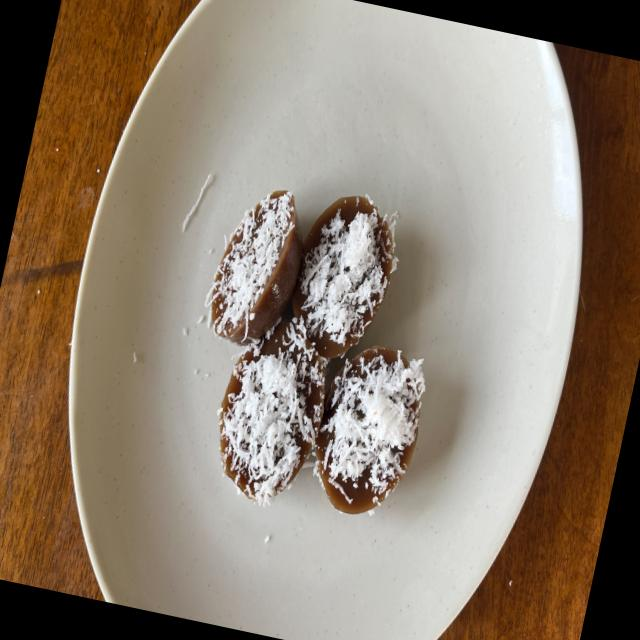Kuih lompang: (219, 319, 324, 504), (315, 345, 424, 514), (291, 195, 394, 359), (205, 189, 302, 344)
